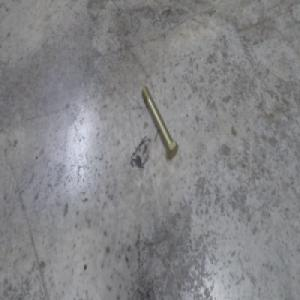Bolt: (141, 83, 179, 160)
